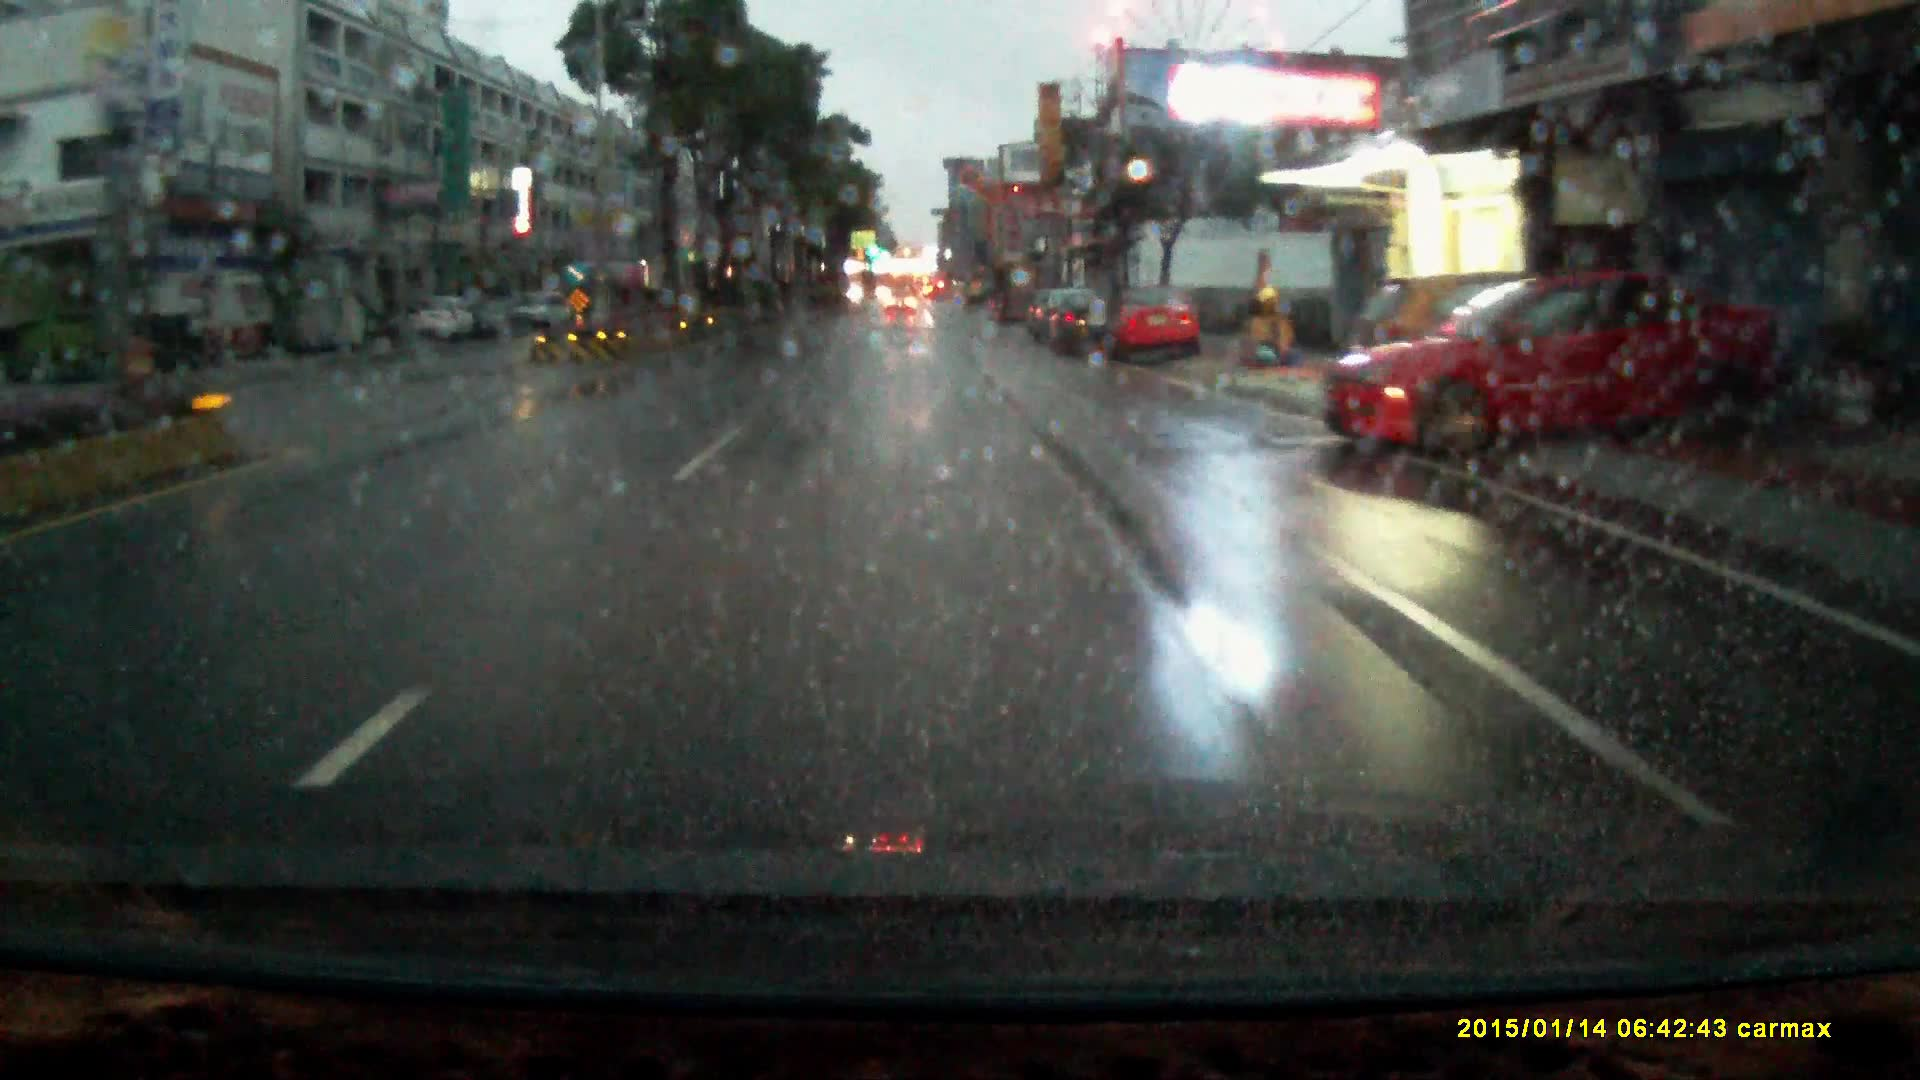vehicle: (1321, 272, 1782, 463), (1102, 286, 1207, 368), (1046, 287, 1117, 360), (415, 295, 477, 347), (516, 295, 578, 338), (885, 294, 918, 320)
